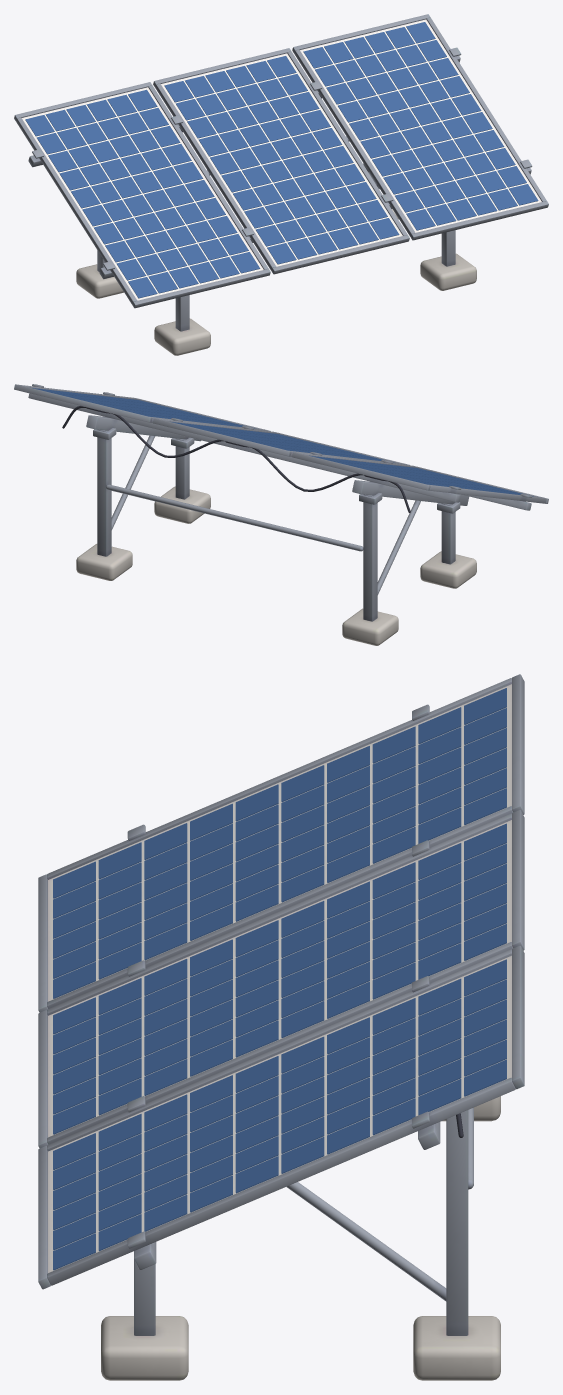
Rendered from solar-array.glb.
3 renders of one model, top to bottom at view 1: azimuth 30°, elevation 25°; view 2: azimuth 150°, elevation 25°; view 3: azimuth 270°, elevation 25°, orthographic. The views are drawn at different scales.
Parts seen in each view (by area): view 1: solar-panel_cells, solar-panel_body; view 2: solar-panel_body, solar-panel_cells; view 3: solar-panel_cells, solar-panel_body.
Boxes of the visible parts, bbox=[...] form: solar-panel_cells: bbox=[25, 22, 538, 298]; solar-panel_body: bbox=[14, 14, 548, 355]; solar-panel_body: bbox=[14, 384, 548, 645]; solar-panel_cells: bbox=[32, 388, 533, 496]; solar-panel_cells: bbox=[53, 688, 506, 1270]; solar-panel_body: bbox=[38, 674, 524, 1380].
Size of the model in its own units: 3.15 by 1.27 by 1.55.
Materials: 2 (1 with a texture image).
